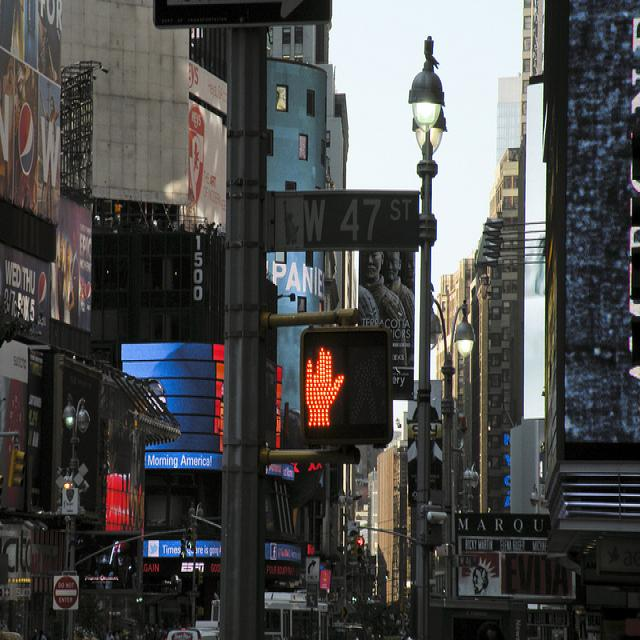Vehicle: (193, 593, 334, 640), (164, 627, 218, 640)
